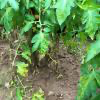Tomato Septoria leaf spot: (74, 69, 97, 99), (80, 10, 100, 41), (32, 30, 51, 60), (53, 1, 74, 27), (15, 61, 29, 77), (21, 52, 31, 62)
